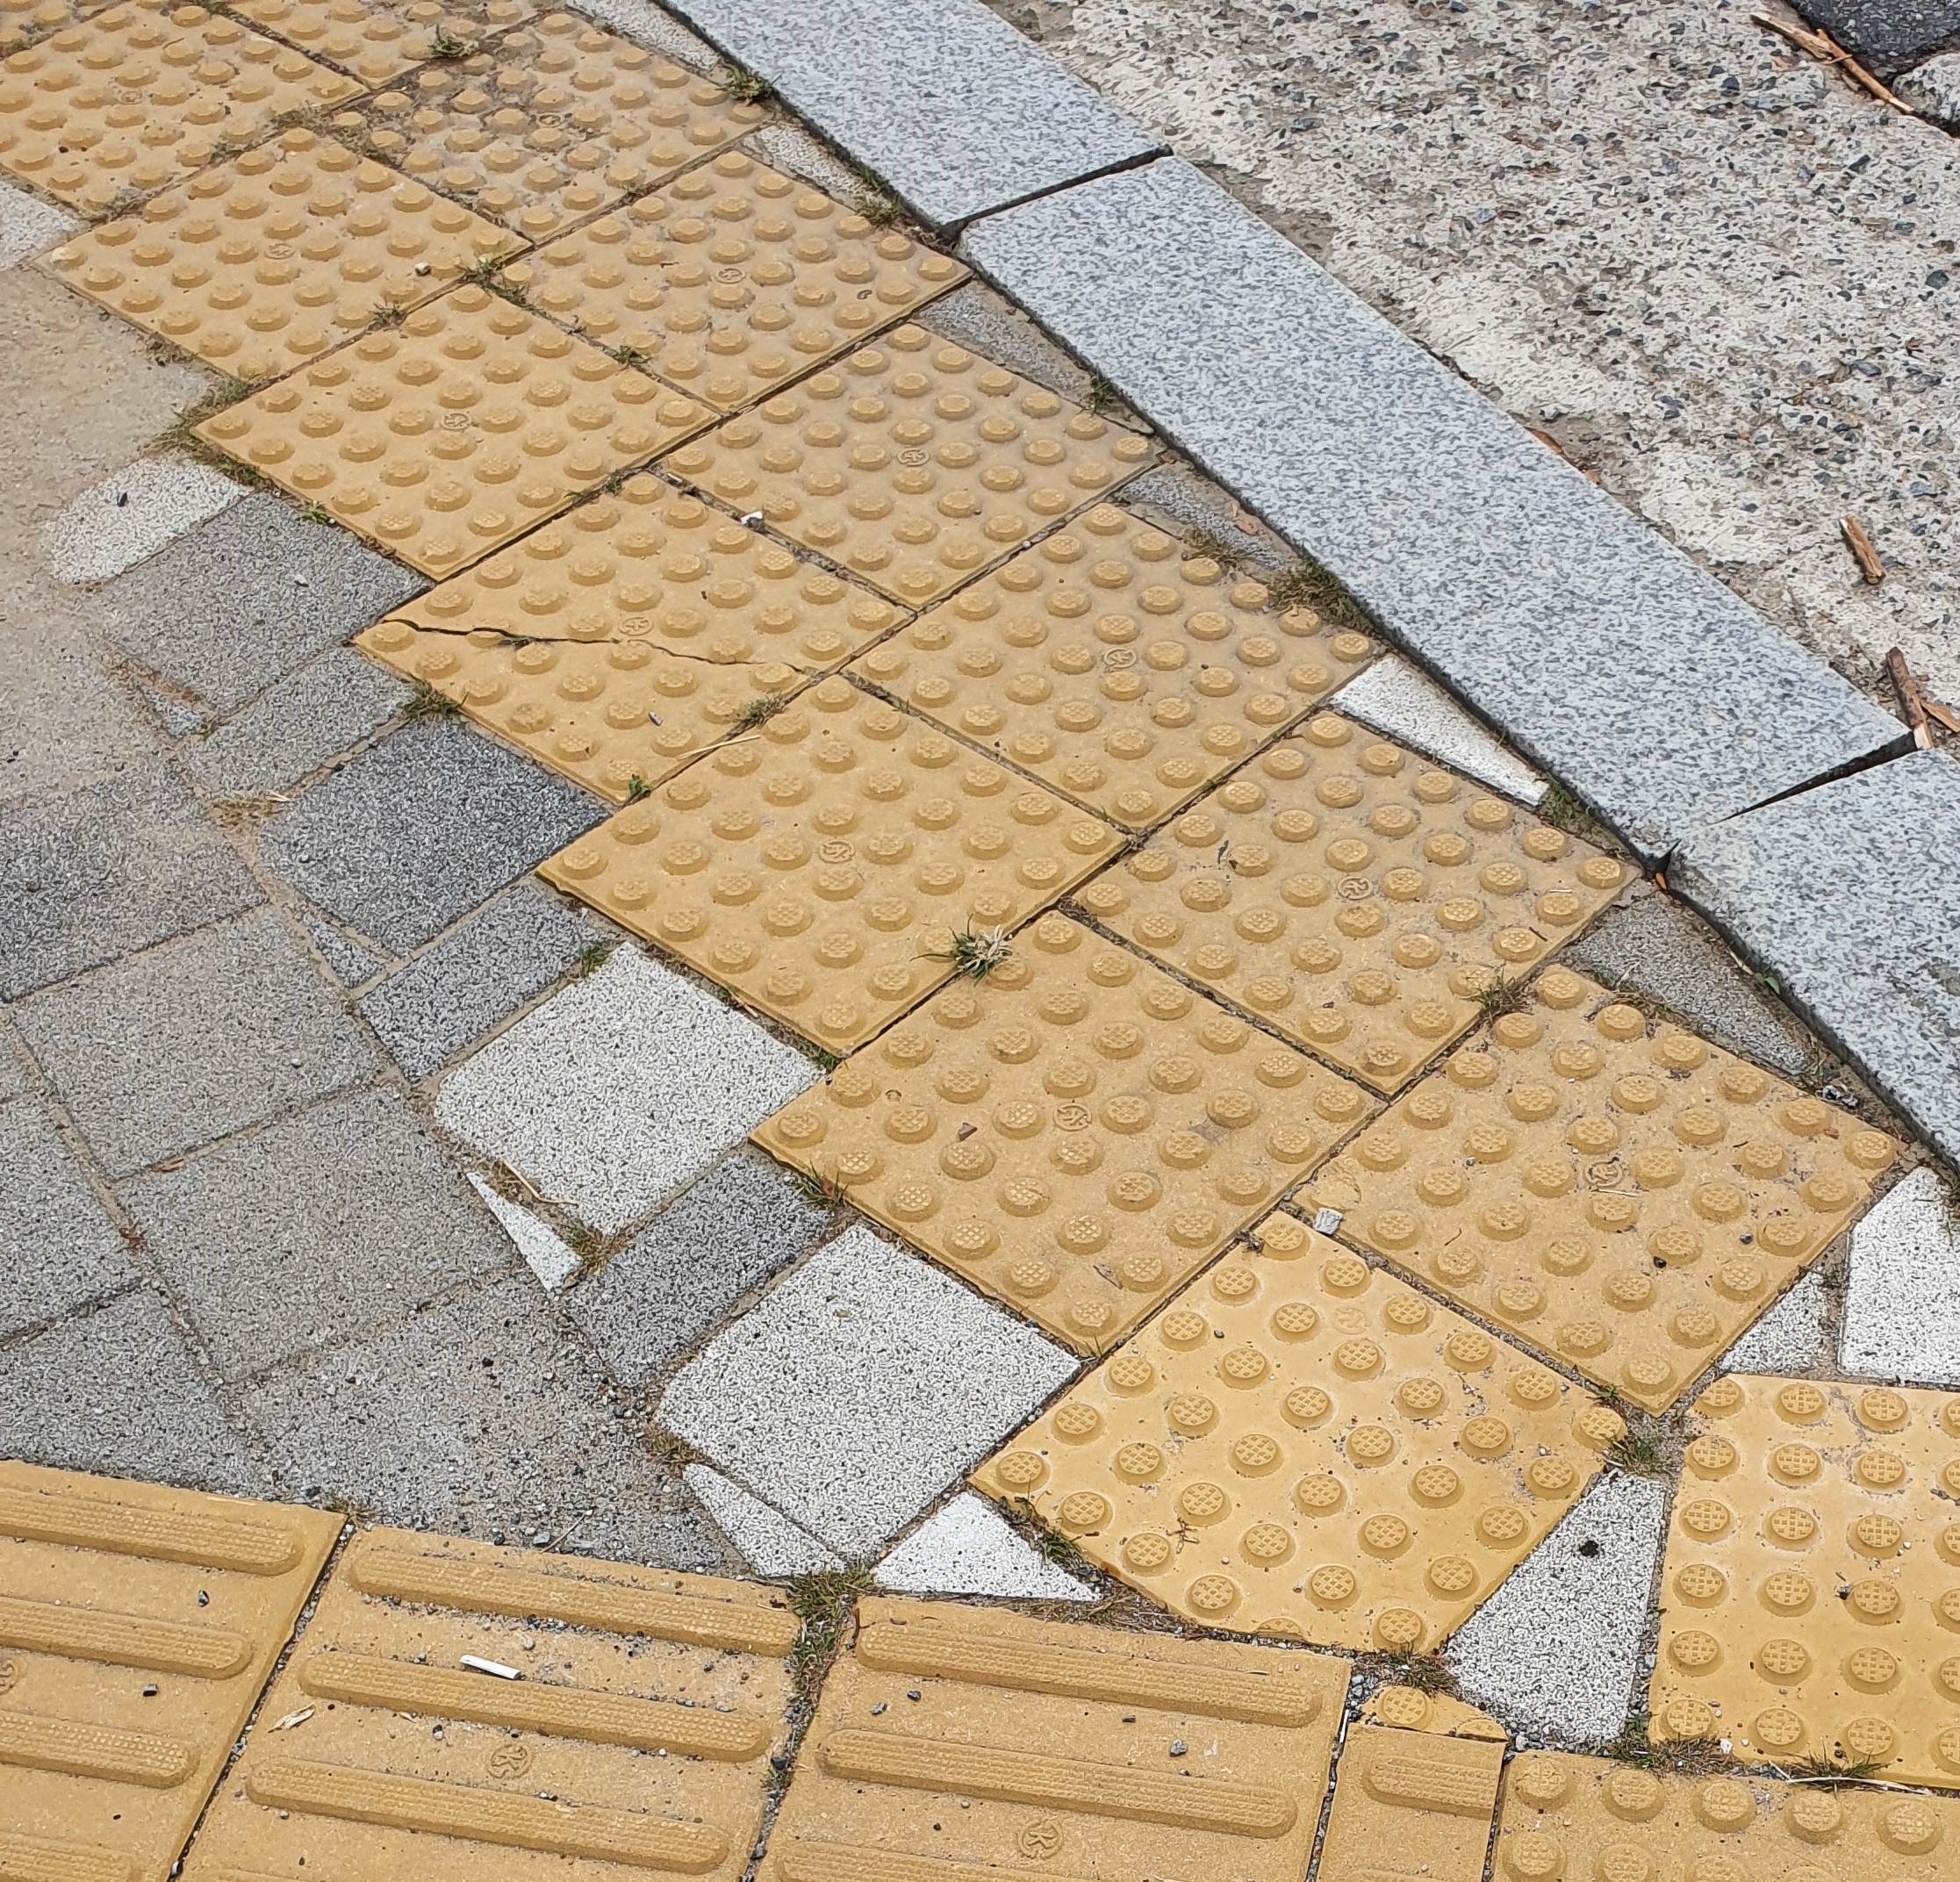warningBlock: (1088, 1268, 1564, 1642), (1382, 980, 1818, 1329), (868, 956, 1311, 1269), (948, 536, 1377, 823), (679, 725, 1081, 1022), (486, 501, 891, 786), (1183, 767, 1547, 1040), (556, 133, 850, 390), (294, 312, 633, 534), (779, 352, 1097, 571), (369, 12, 689, 219), (124, 151, 439, 341)
